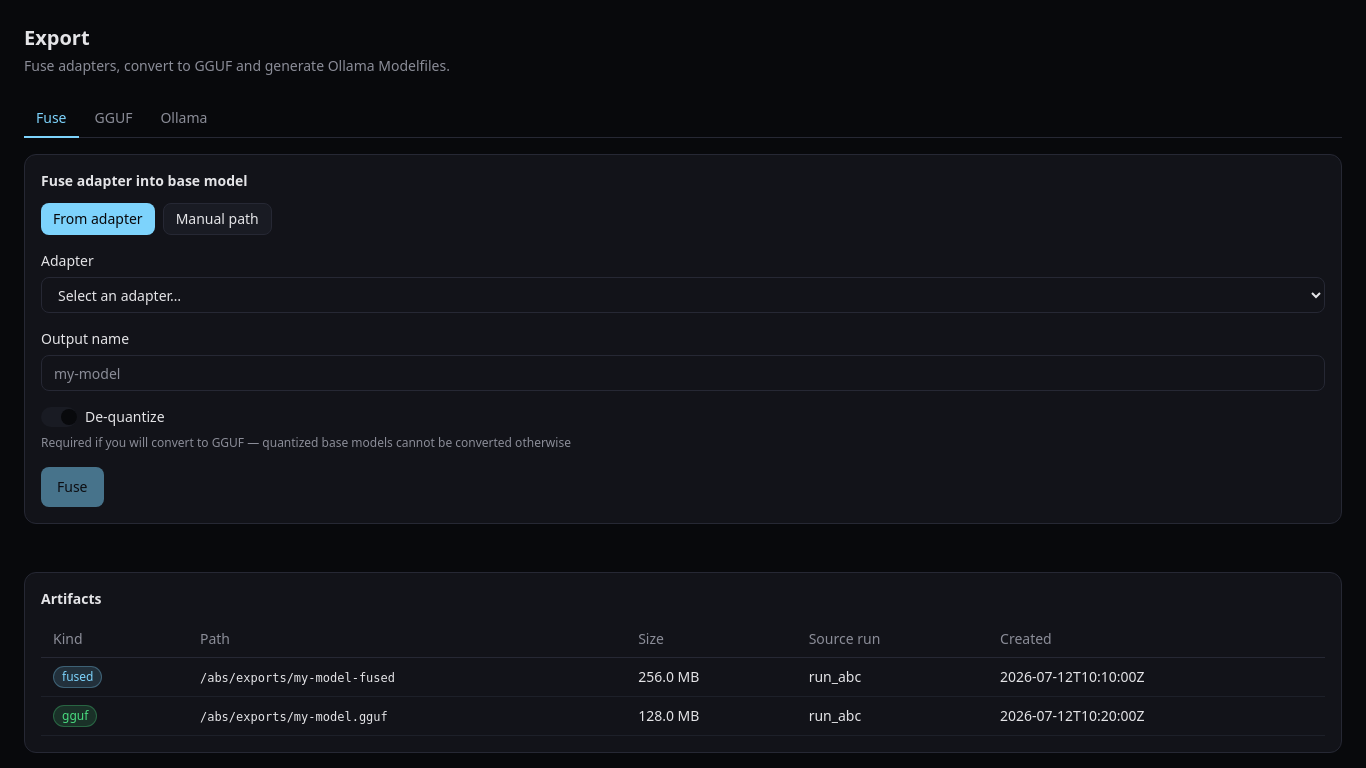
Test: ExportPage › surfaces the training_active feedback when an export is rejected with 409
Select "my-run — mlx-community/SmolLM-135M-Instruct-4bit" in the dropdown. click: (683, 295)
box: [41,277,1325,313]
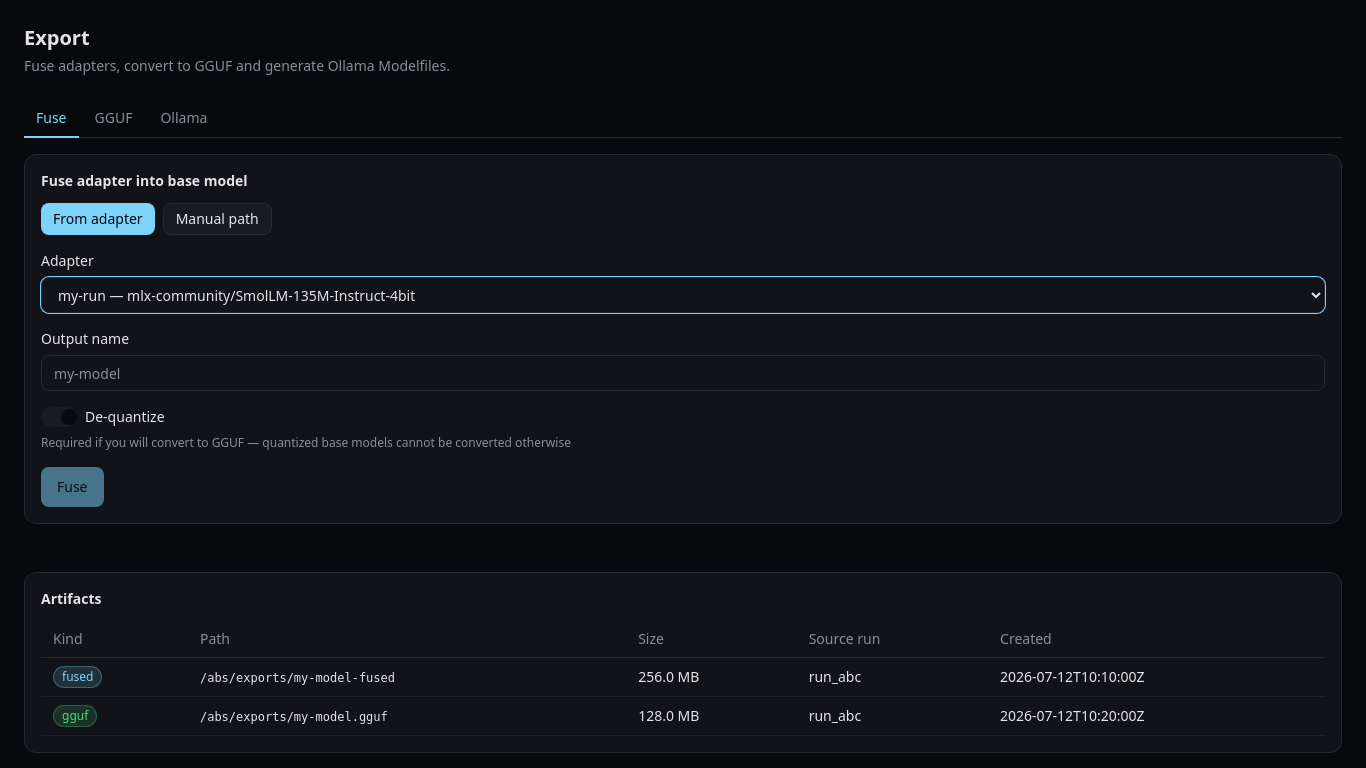
Type "fused-out" into the field with placeholder "my-model". click: (683, 373)
box: [41,355,1325,391]
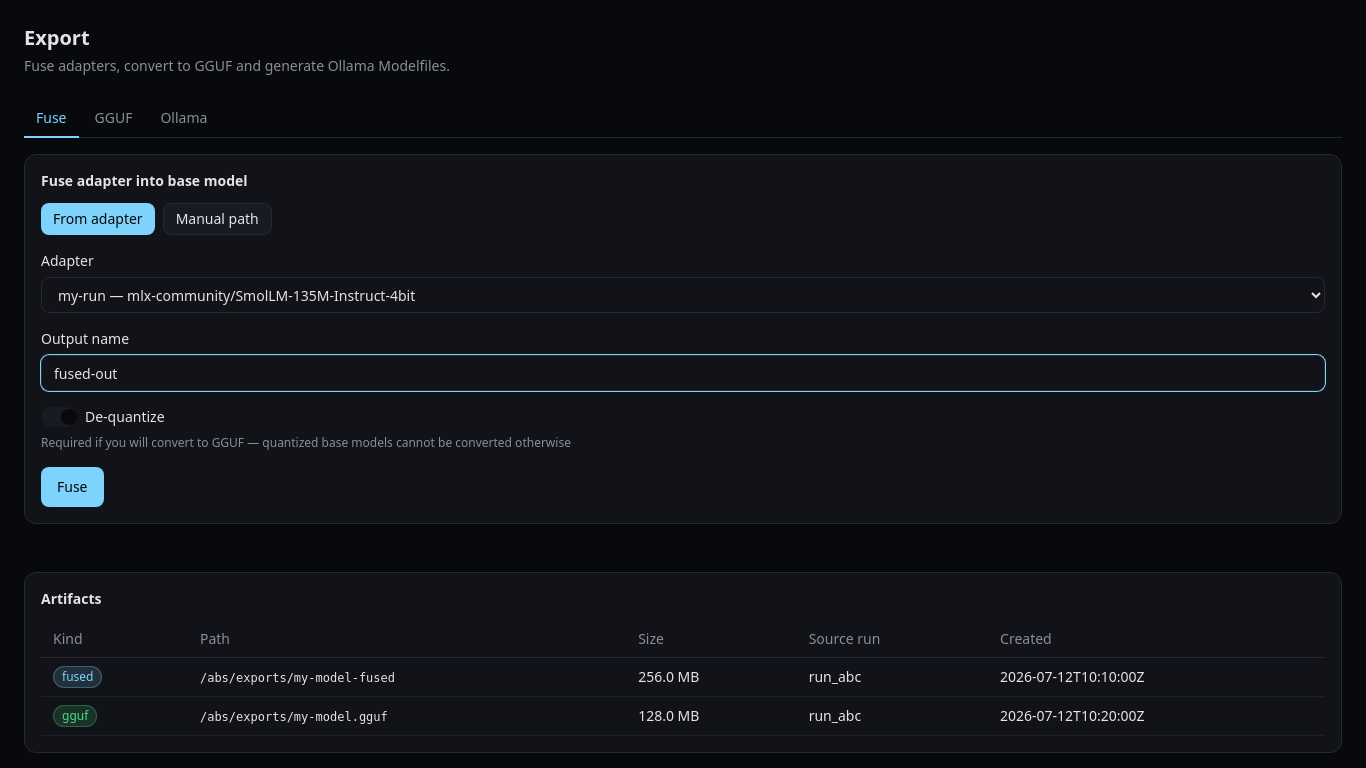
Click the button "Fuse". click: (72, 487)
box: [41,467,104,507]
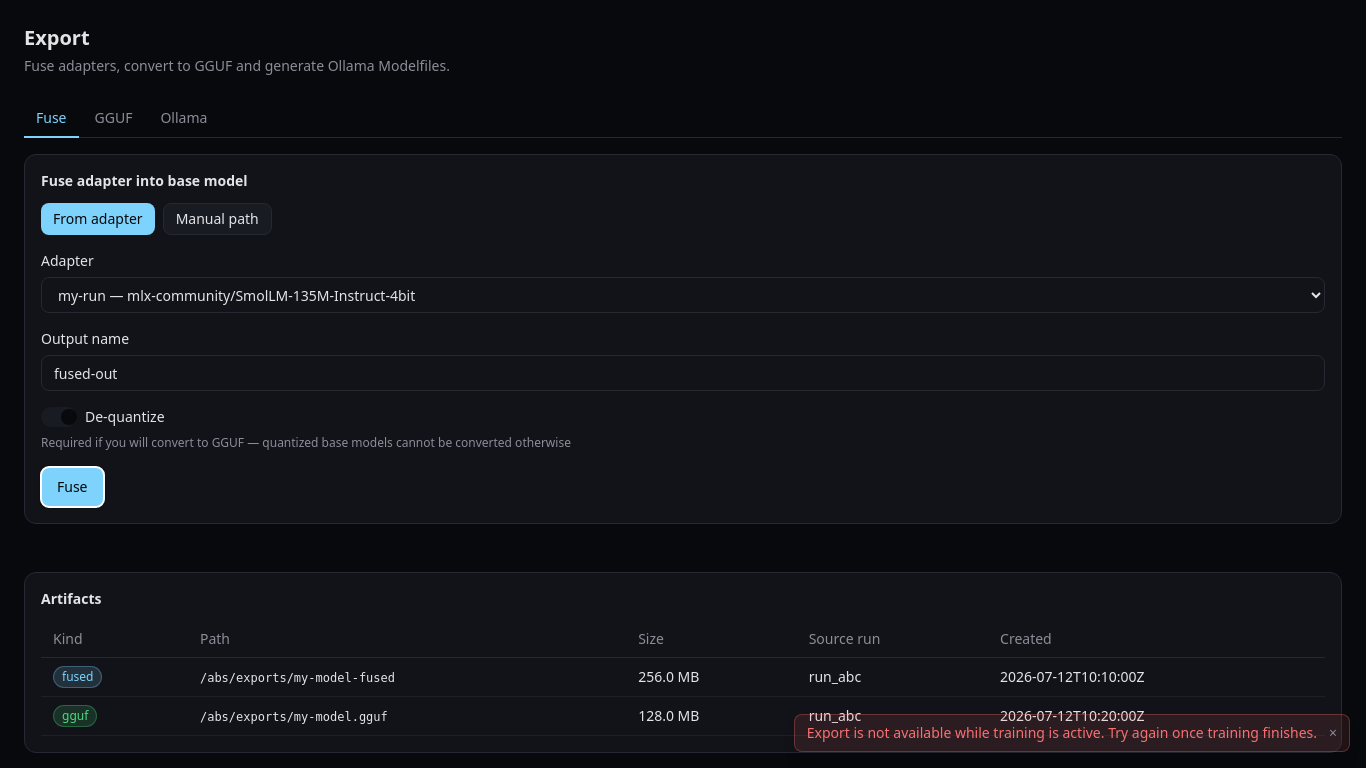
Result: the message shows "while training is active" at [807,723,1317,742]
